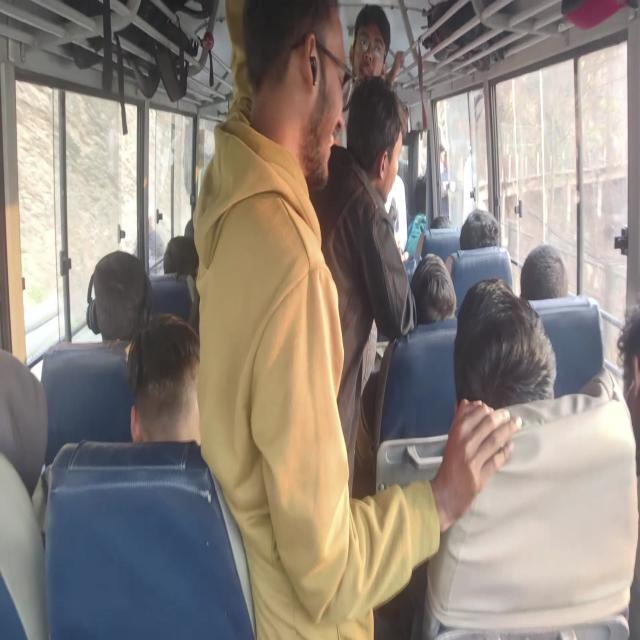person: (357, 249, 431, 628), (452, 277, 557, 414), (127, 312, 204, 446), (241, 0, 334, 102), (342, 4, 397, 154), (0, 347, 48, 498), (88, 251, 154, 345), (349, 97, 396, 216), (616, 304, 640, 480), (409, 252, 456, 324), (519, 243, 569, 302), (459, 208, 501, 250), (163, 236, 199, 278), (187, 284, 201, 338), (429, 214, 455, 230), (184, 218, 195, 241)
